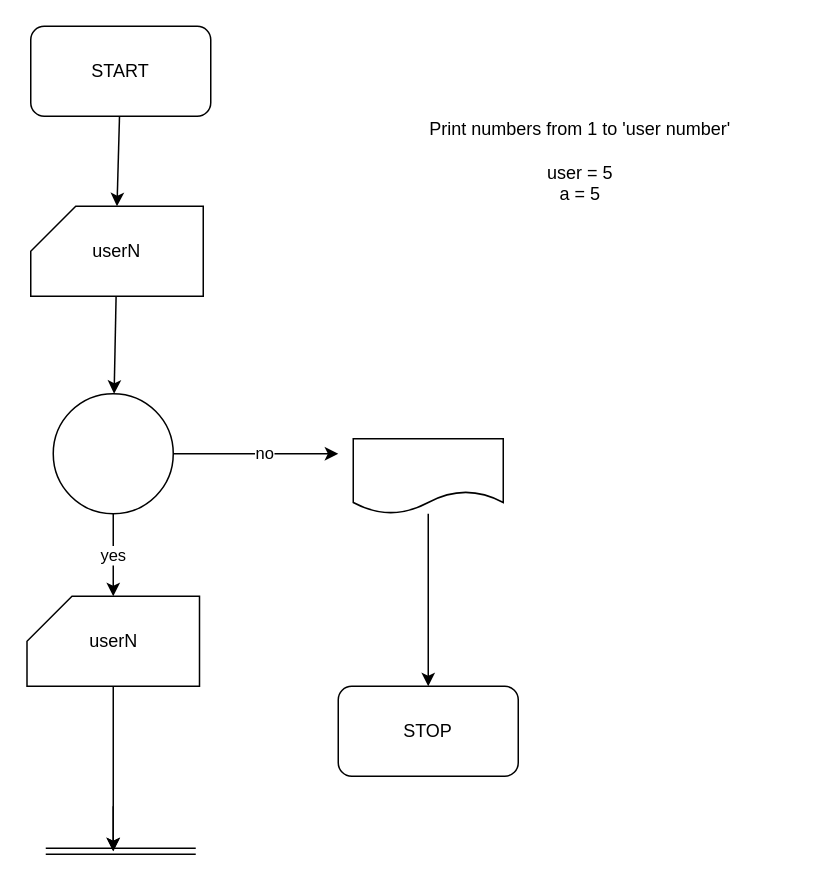
This 836x890 diagram has some shape labels left out. The box of each missing label's shape, as (x1, y1, x2, y2) in pixels:
"finish": (352, 437, 503, 514)
userN <= 0: (52, 392, 173, 514)
